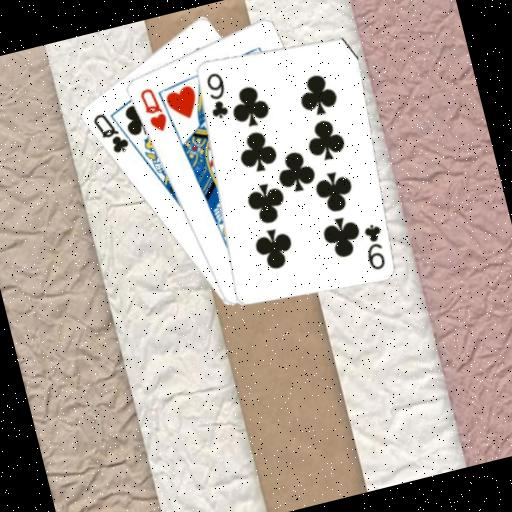9C: (356, 219, 392, 274), (199, 68, 234, 123)
QC: (88, 105, 132, 159)
QH: (136, 82, 171, 136)
